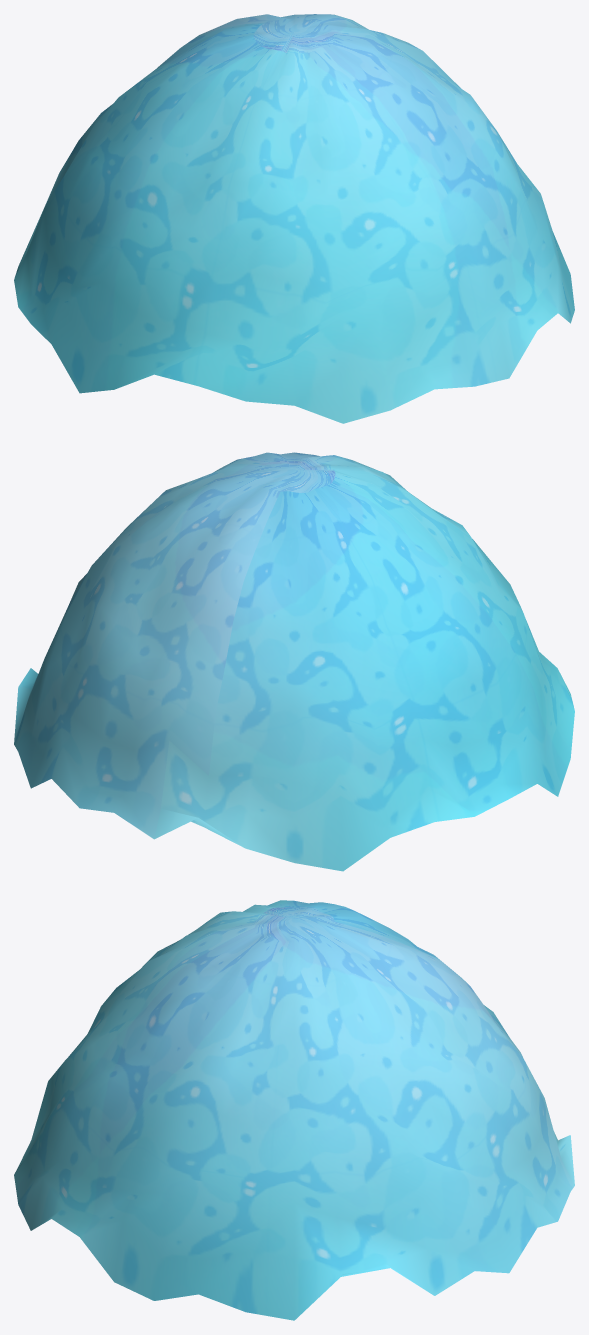
The model's file is dragonEggUpperHalf.fbx.
The picture shows the model from 3 angles, top to bottom: view 1: azimuth 30°, elevation 25°; view 2: azimuth 150°, elevation 25°; view 3: azimuth 270°, elevation 25°; orthographic projection.
Visible parts, largest first — view 1: BezierCircle; view 2: BezierCircle; view 3: BezierCircle.
Part boxes in pixels (<box>): BezierCircle: <box>14,14,574,423</box>; BezierCircle: <box>14,452,574,871</box>; BezierCircle: <box>14,900,574,1320</box>.
Bounding box in the file's own units: 149 × 84.17 × 149.
